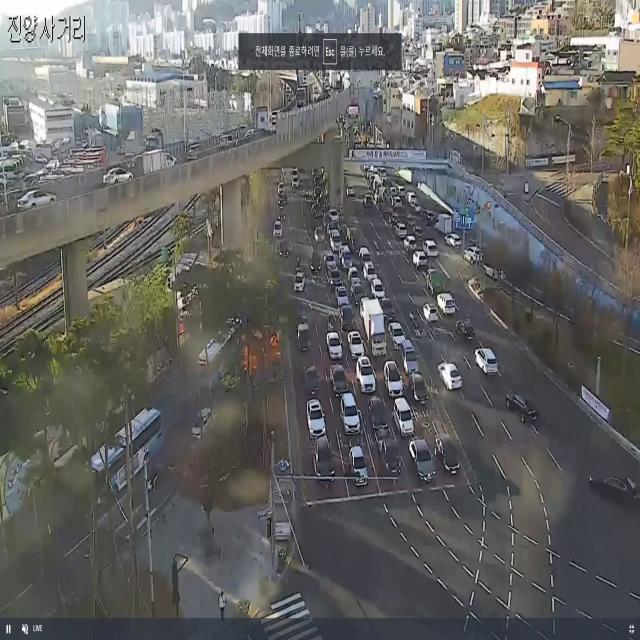bus: (322, 308, 337, 333)
car: (80, 389, 167, 520), (194, 302, 252, 400)
motorcycle: (583, 452, 640, 524), (501, 380, 542, 434), (405, 431, 439, 494), (310, 434, 338, 491), (344, 441, 370, 493), (303, 392, 330, 440), (434, 356, 466, 396), (338, 391, 363, 440), (15, 187, 59, 214), (472, 341, 500, 380), (100, 166, 136, 187), (274, 236, 292, 263), (293, 265, 307, 297)
truck: (361, 298, 388, 358), (140, 147, 180, 175), (423, 265, 447, 297)
